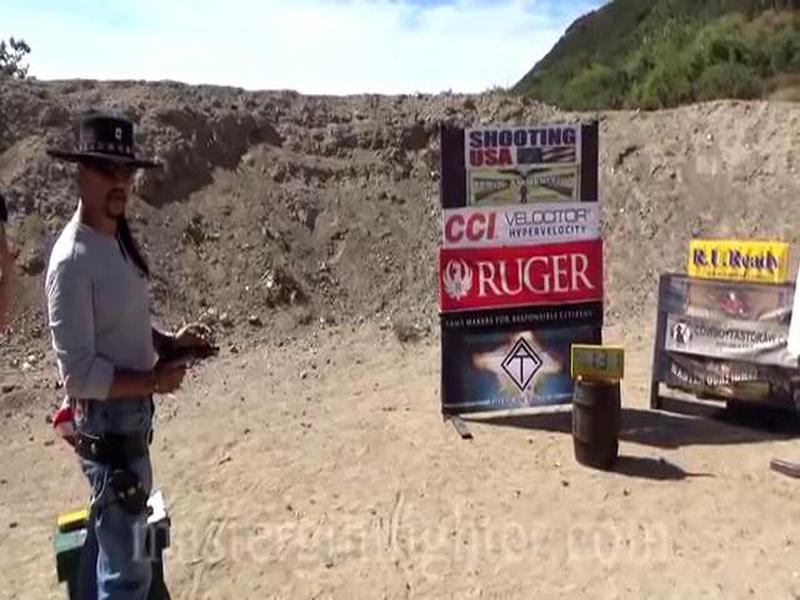Pistola: (161, 339, 235, 400)
